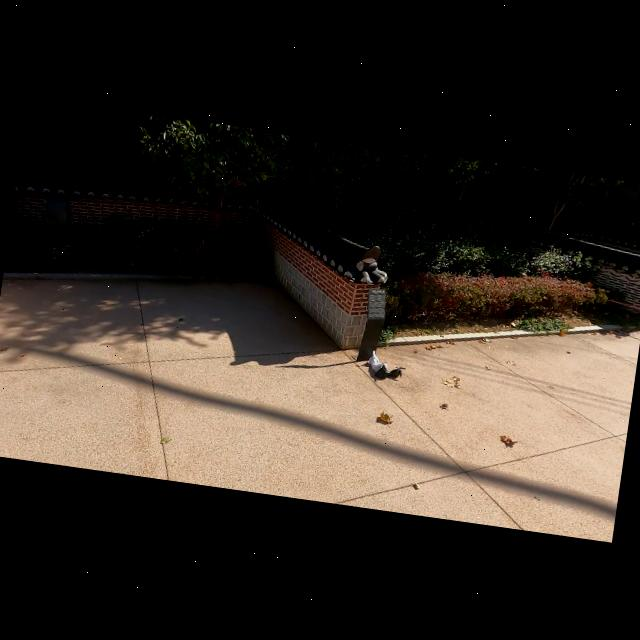trash: (373, 362, 392, 380), (370, 360, 390, 376), (390, 366, 407, 380), (368, 349, 382, 366)
